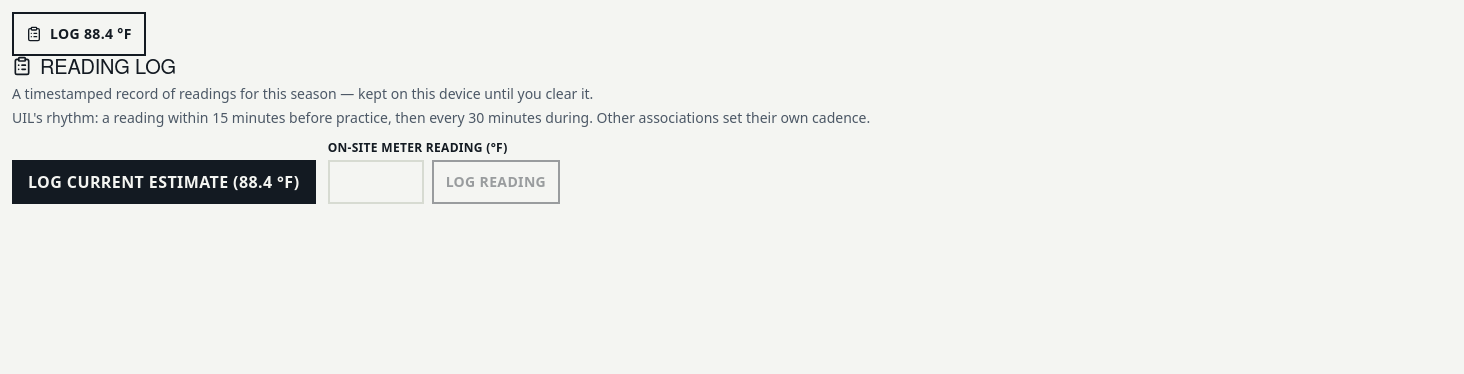
Scenario: LogQuickAdd beside the verdict › writes to the same log the history below reads
Step 1. Click the button "Log 88.4 °F" → (79, 34), box left=12, top=12, right=146, bottom=56
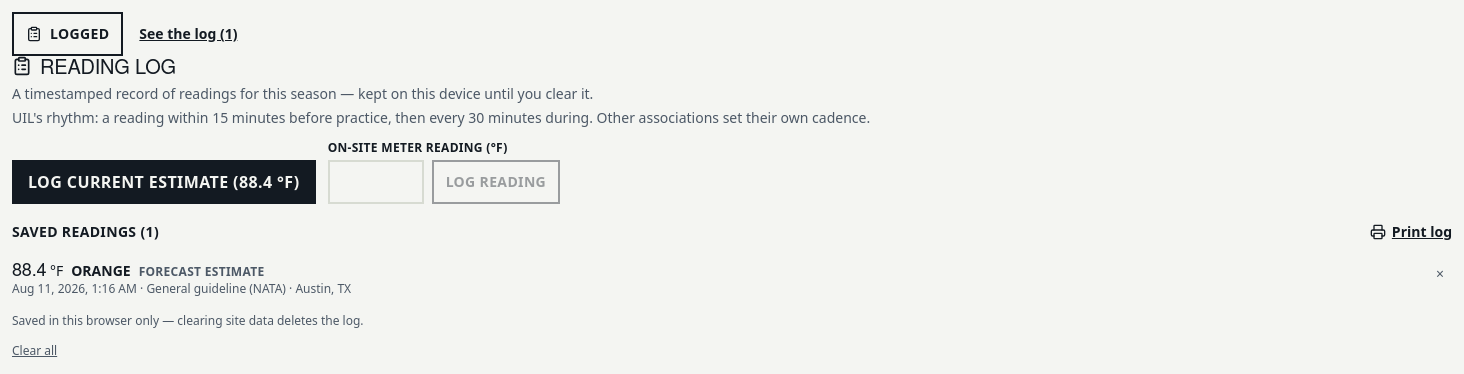
Now the list named "Saved readings" is shown, box left=12, top=252, right=1452, bottom=305
